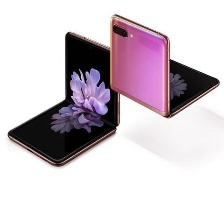phone: (6, 27, 125, 172), (106, 13, 223, 124)
